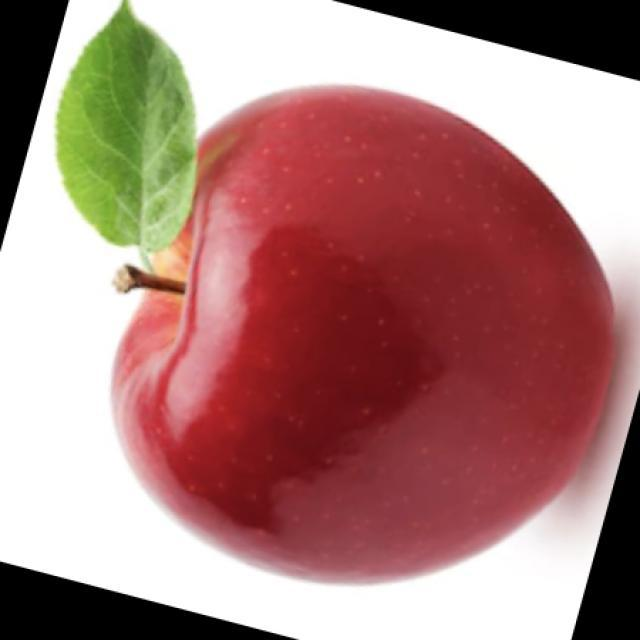Fresh Apple: (77, 85, 628, 550)
